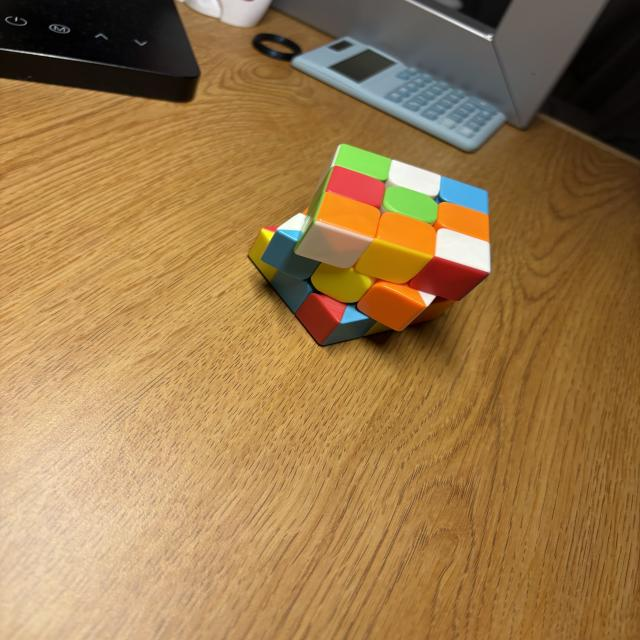Rubiks Cube: (249, 147, 493, 344)
